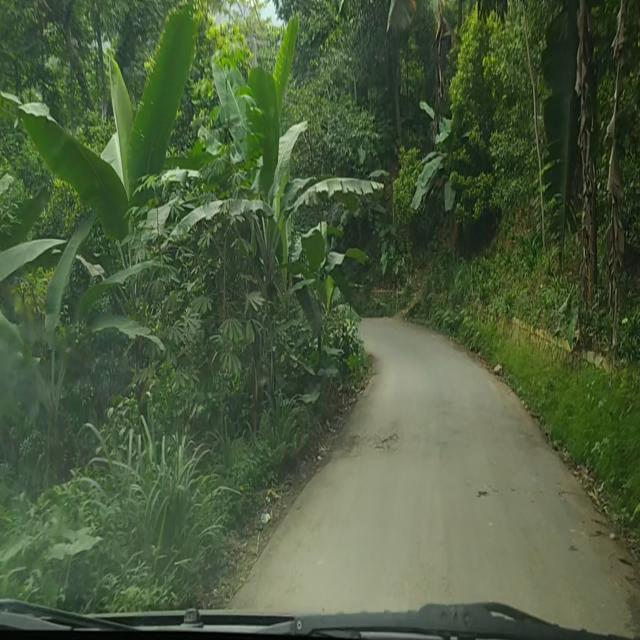Drain Hole: (336, 415, 412, 457)
